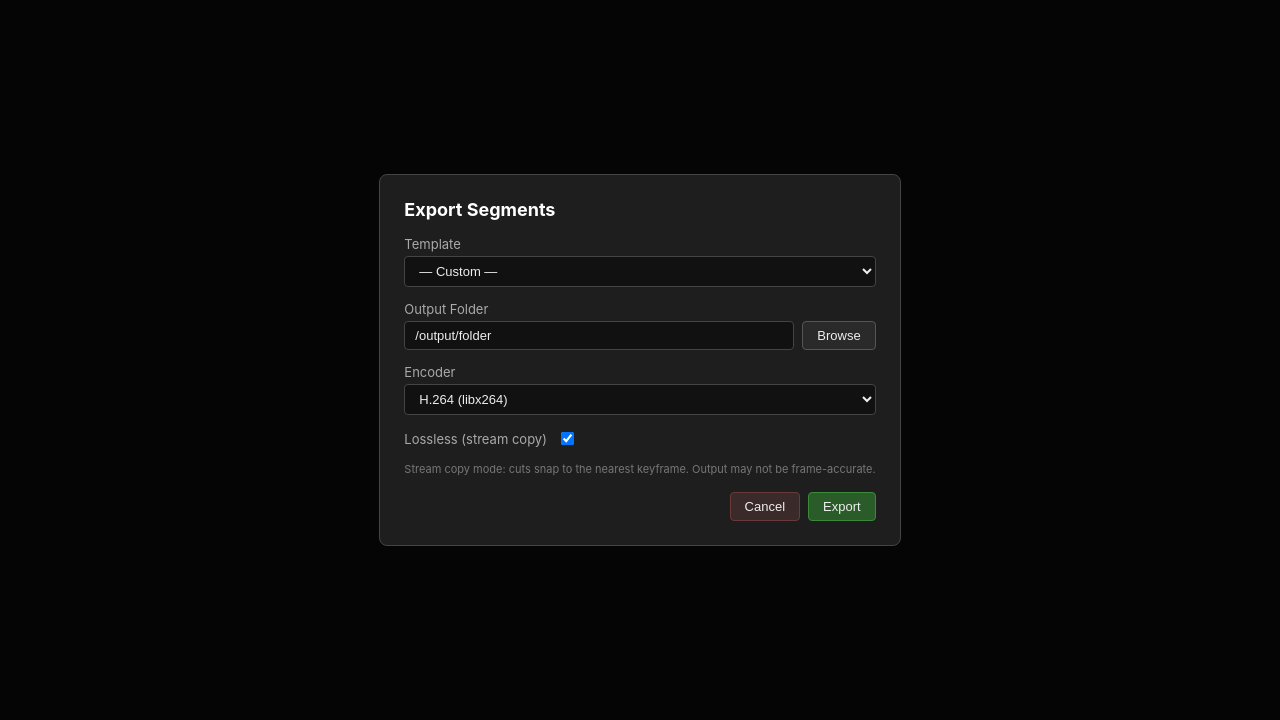
Test: ExportDialog › template note appears after template selection
This screenshot has width=1280, height=720.
Select "YouTube (H.264 High Quality)" in the dropdown named "export template". click: [640, 272]
box: x1=404 y1=256 x2=876 y2=287
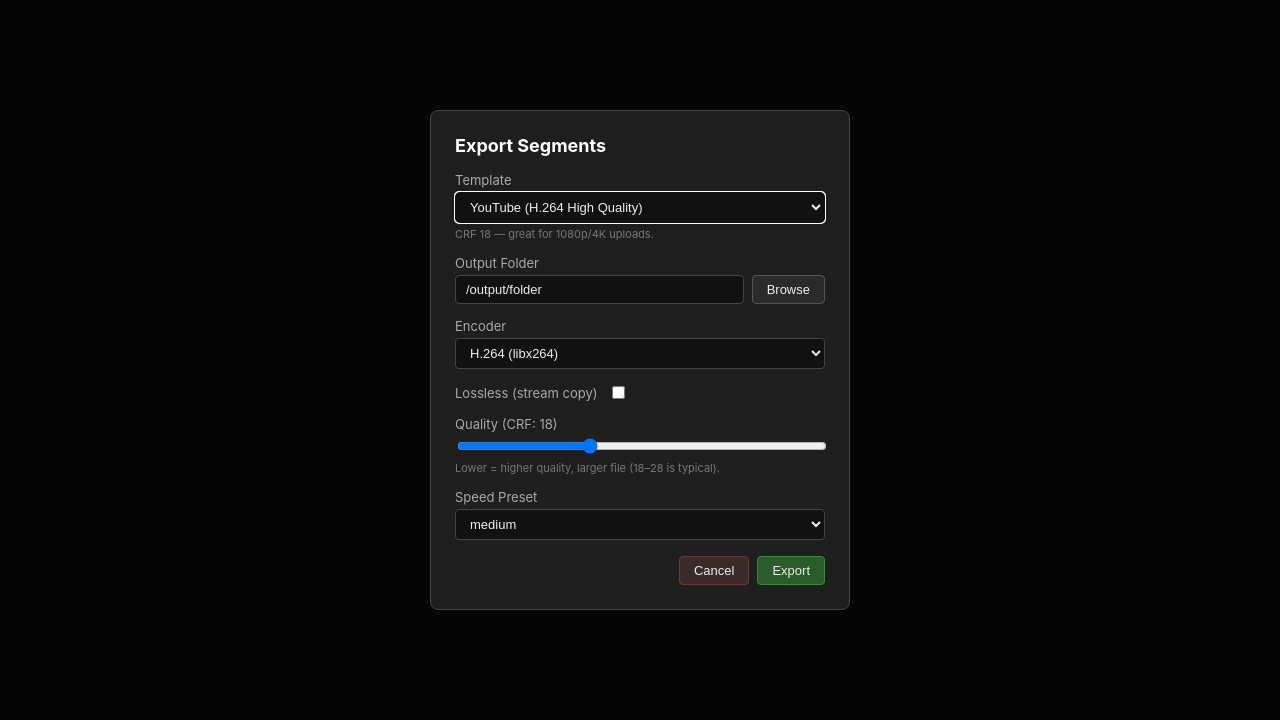
expect the text "CRF 18 — great for 1080p/4K uploads." is shown: met, box x1=455 y1=227 x2=654 y2=241
